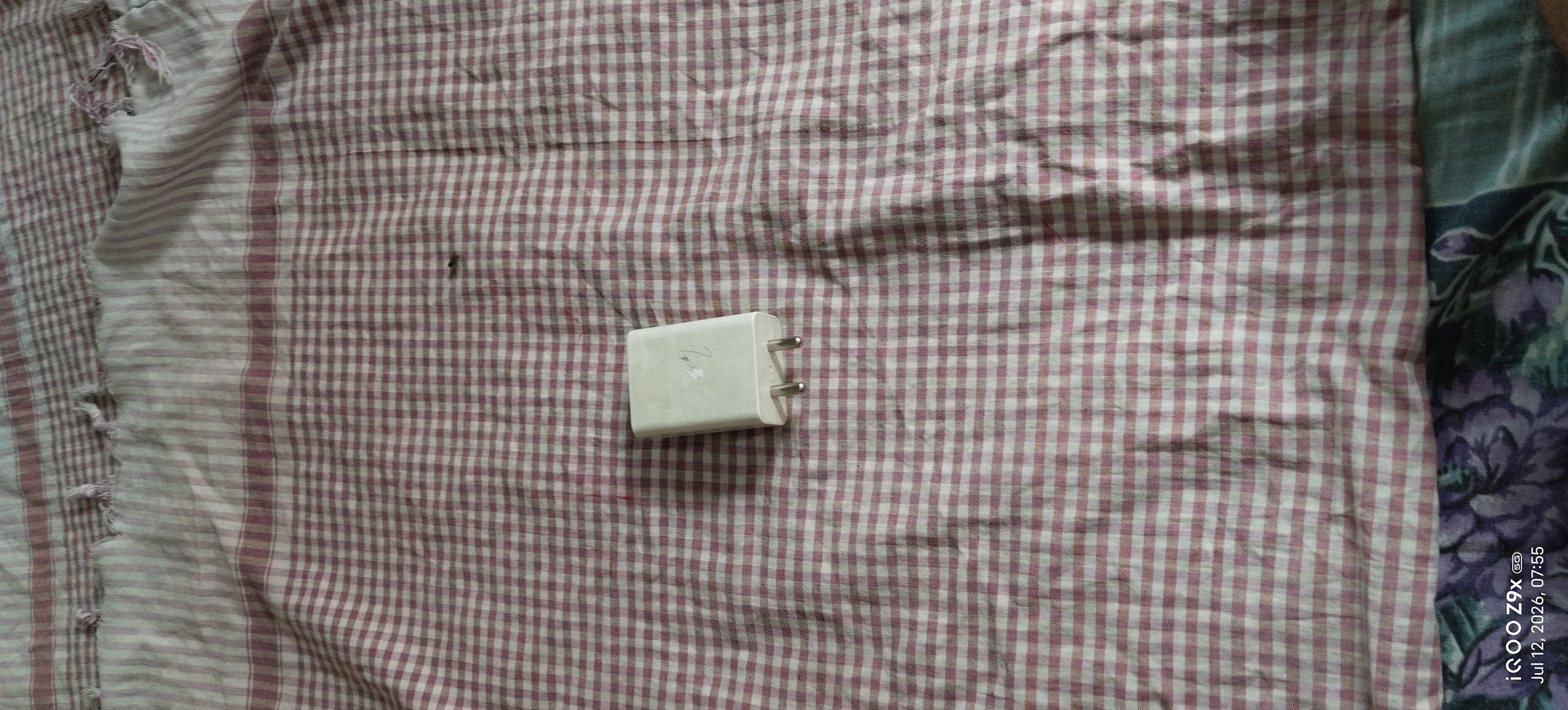charger: (602, 289, 831, 462)
